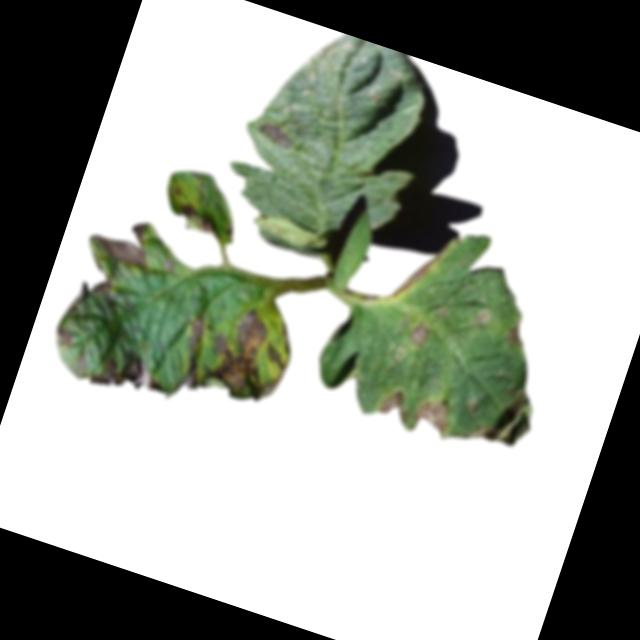Early_blight: (198, 295, 303, 409), (91, 339, 175, 406), (394, 229, 455, 310), (86, 210, 162, 272), (54, 265, 113, 333), (170, 310, 219, 391), (410, 390, 456, 439), (173, 198, 224, 239), (374, 384, 416, 426), (254, 116, 294, 149), (501, 319, 531, 350), (406, 317, 434, 348), (51, 324, 79, 351)
